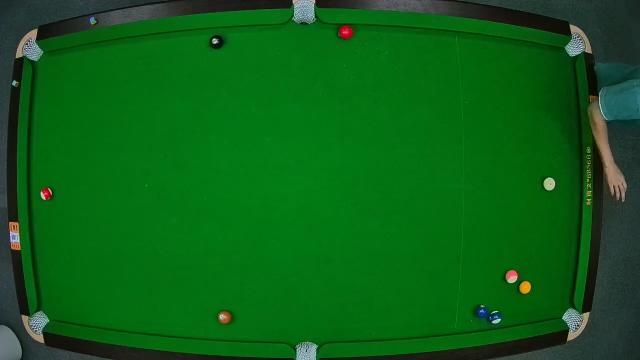bag1: (20, 40, 42, 62)
bag2: (292, 2, 316, 26)
bag3: (566, 36, 586, 58)
bag4: (29, 311, 49, 333)
bag5: (294, 340, 318, 360)
bag6: (562, 308, 582, 330)
ball0: (543, 178, 557, 190)
ball1: (518, 280, 534, 296)
ball10: (489, 309, 505, 325)
ball11: (38, 186, 52, 202)
ball12: (506, 270, 518, 284)
ball2: (476, 302, 490, 318)
ball3: (338, 25, 352, 40)
ball7: (217, 309, 233, 325)
ball8: (209, 36, 225, 50)
